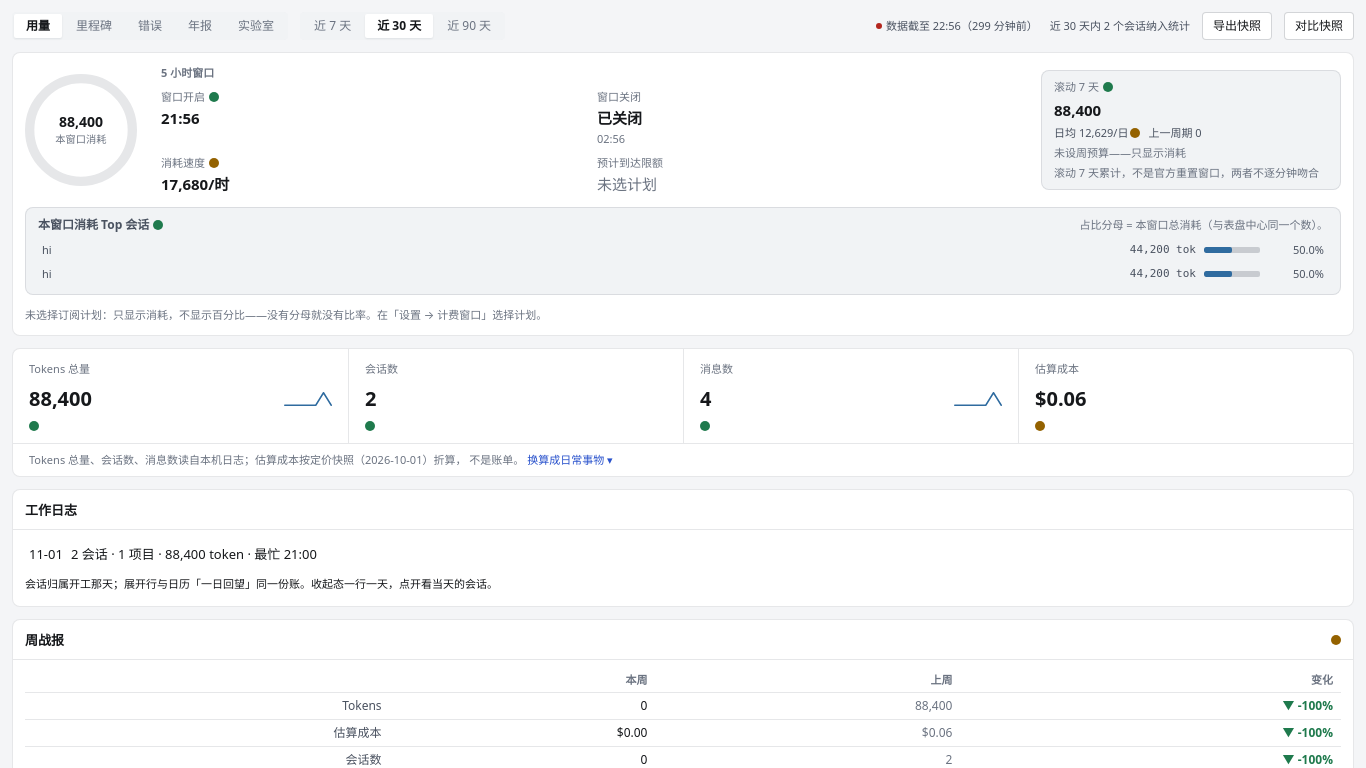
Test: UsageOverviewPage › 分段项是「用量 | 里程碑 | 错误 | 年报 | 实验室」；里程碑档吃同一份扫描、且不渲染时间范围控件
The image size is (1366, 768).
Expected: the element named "时间范围" is shown, [300, 12, 505, 40]
Click the tab "里程碑" at (94, 26), box [64, 14, 124, 38]
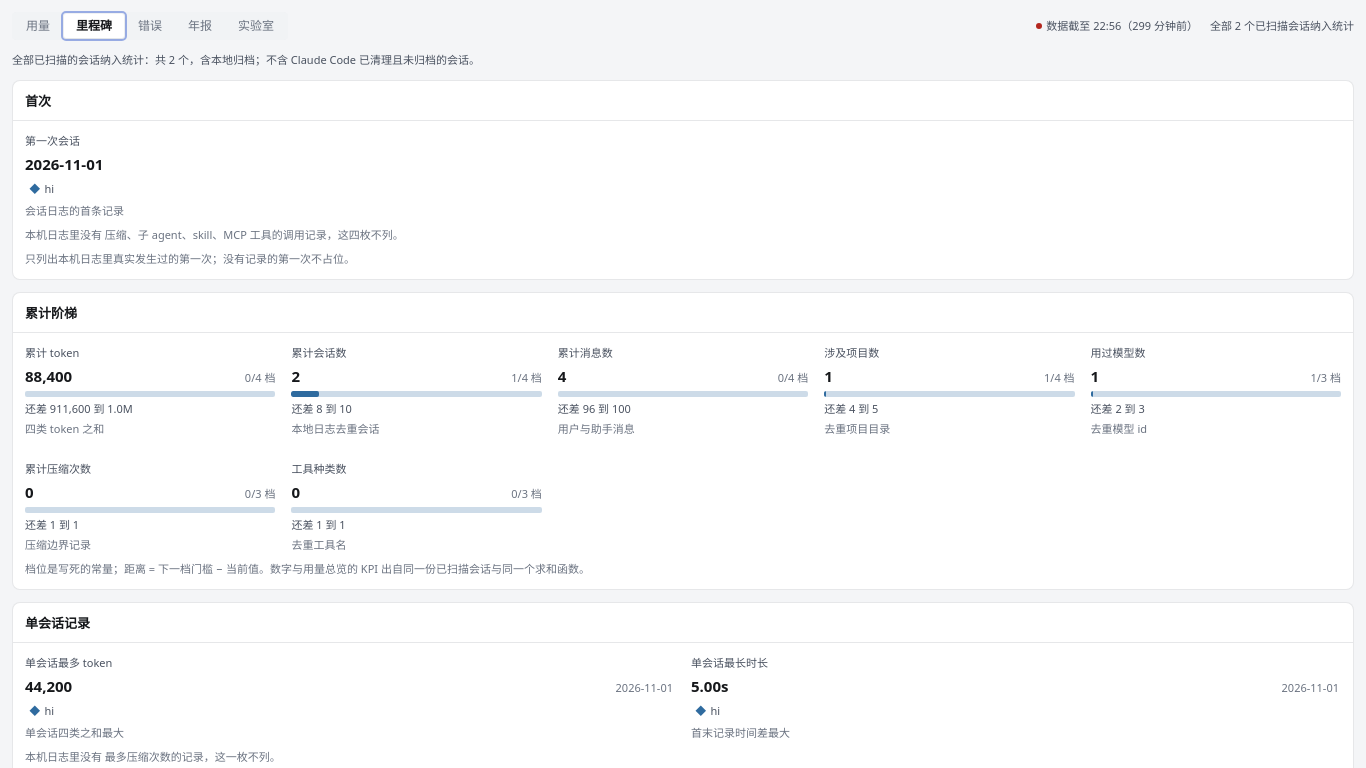
Result: the text "全部已扫描的会话纳入统计：共 2 个，含本地归档；不含 Claude Code 已清理且未归档的会话。" is shown at [12, 52, 480, 67]
Result: the element "时间范围" is gone
Result: the text "全部 2 个已扫描会话纳入统计" is shown at [1210, 18, 1354, 34]
